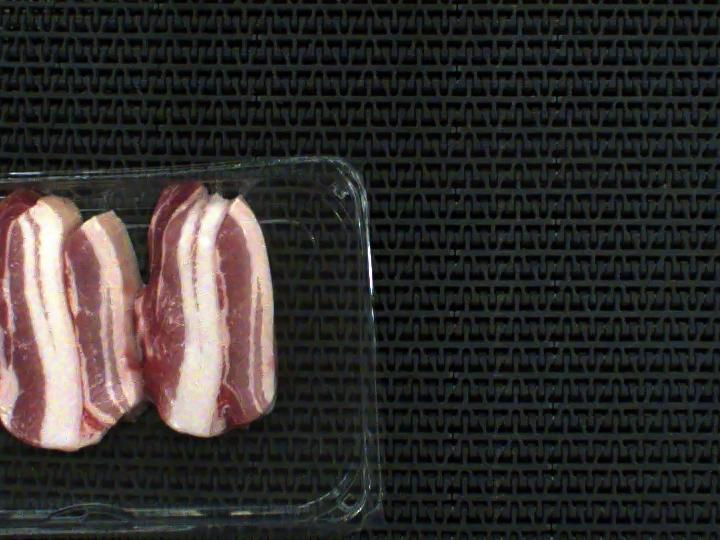packaging-error: (0, 161, 263, 238)
